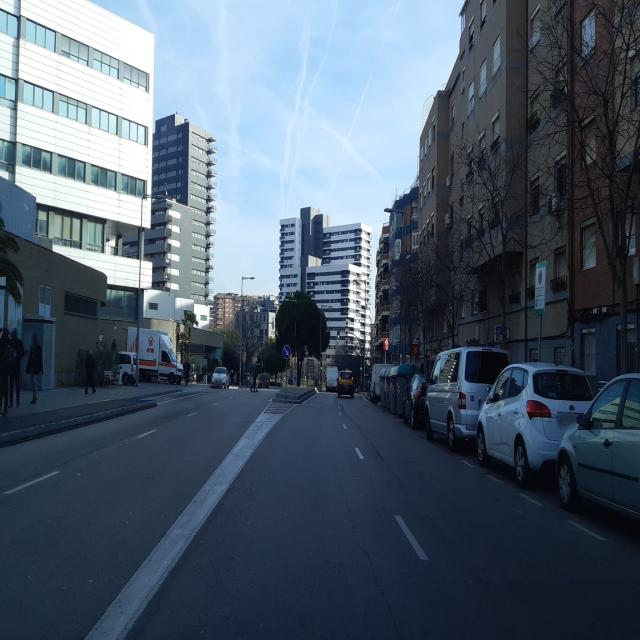forb_stopping: (538, 270, 542, 286)
